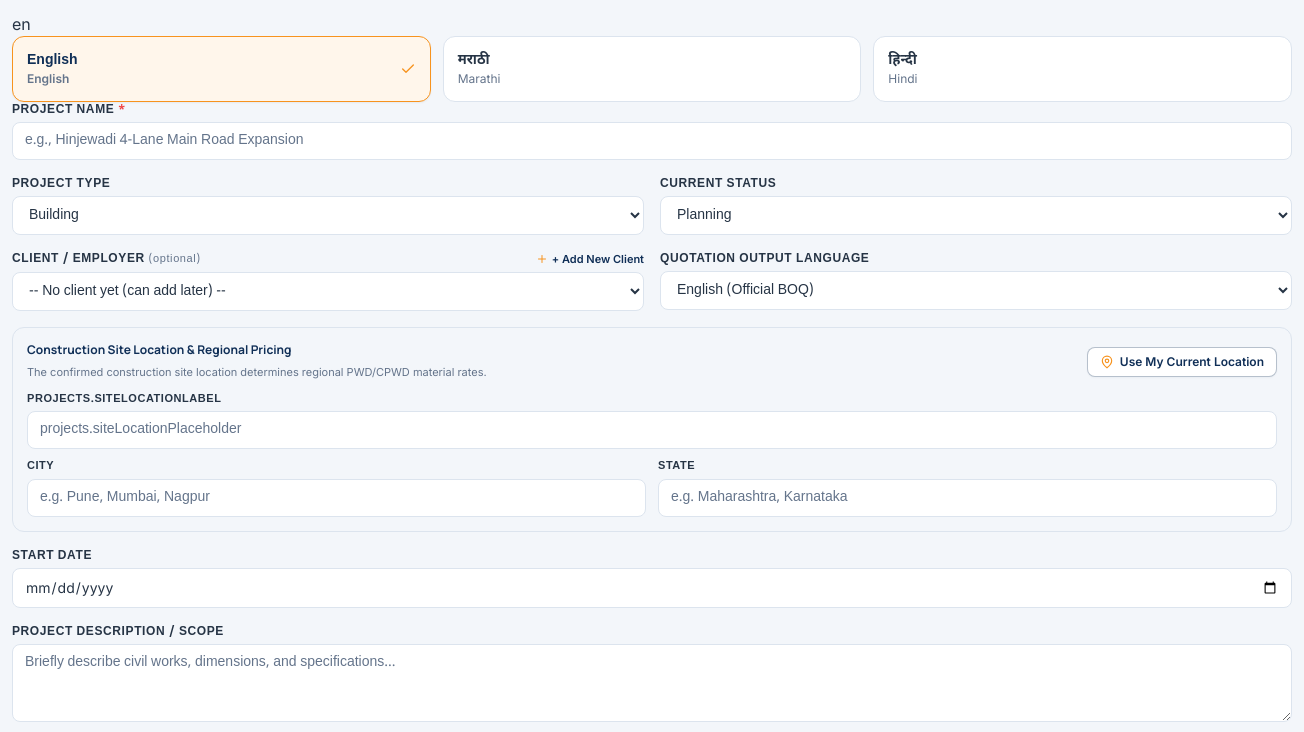
Test: Language Switch & Form Data Preservation Tests › should preserve user-entered form data when switching interface languages
Expected: the text with test id "current-locale" reads "en", [12, 14, 31, 34]
Expected: the text "Project Name *" is shown, [12, 102, 126, 118]
In the field named "name": (652, 141) [12, 122, 1292, 160], type "हिंजवडी वाकड मुख्य रस्ता"
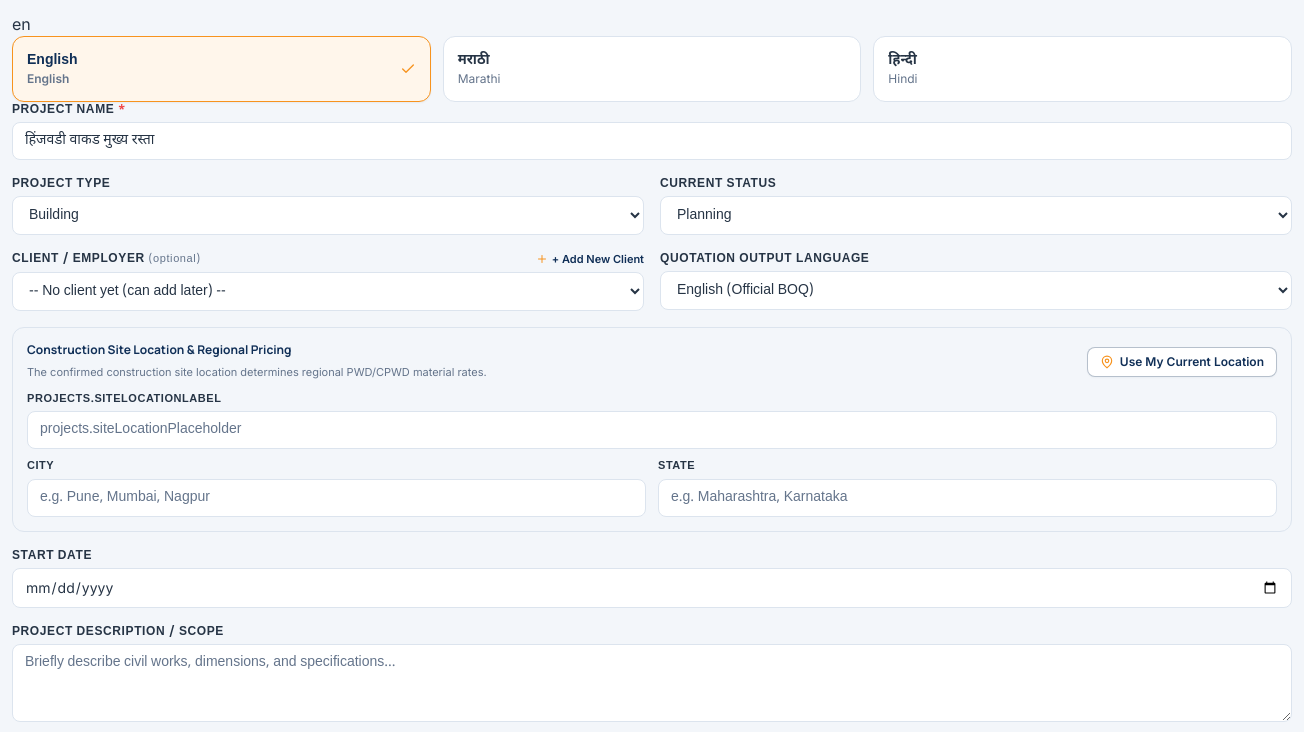
Note: Switch language to Marathi ('mr')
Click the text "मराठी": (474, 60) [458, 51, 490, 70]
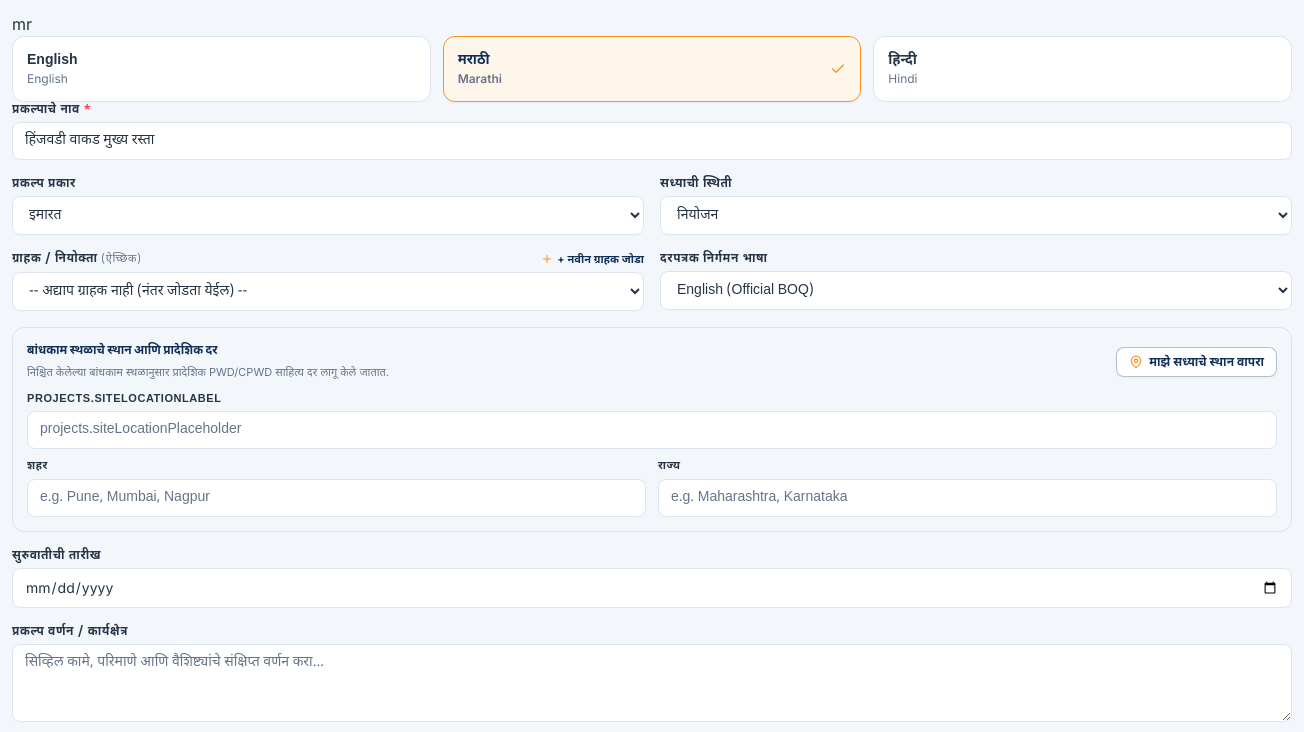
Now the text with test id "current-locale" reads "mr", box [12, 14, 32, 34]
Now the text "प्रकल्पाचे नाव *" is shown, box [12, 102, 92, 118]
Note: Switch language to Hindi ('hi')
Click the text "हिन्दी": (903, 61) [888, 51, 918, 71]
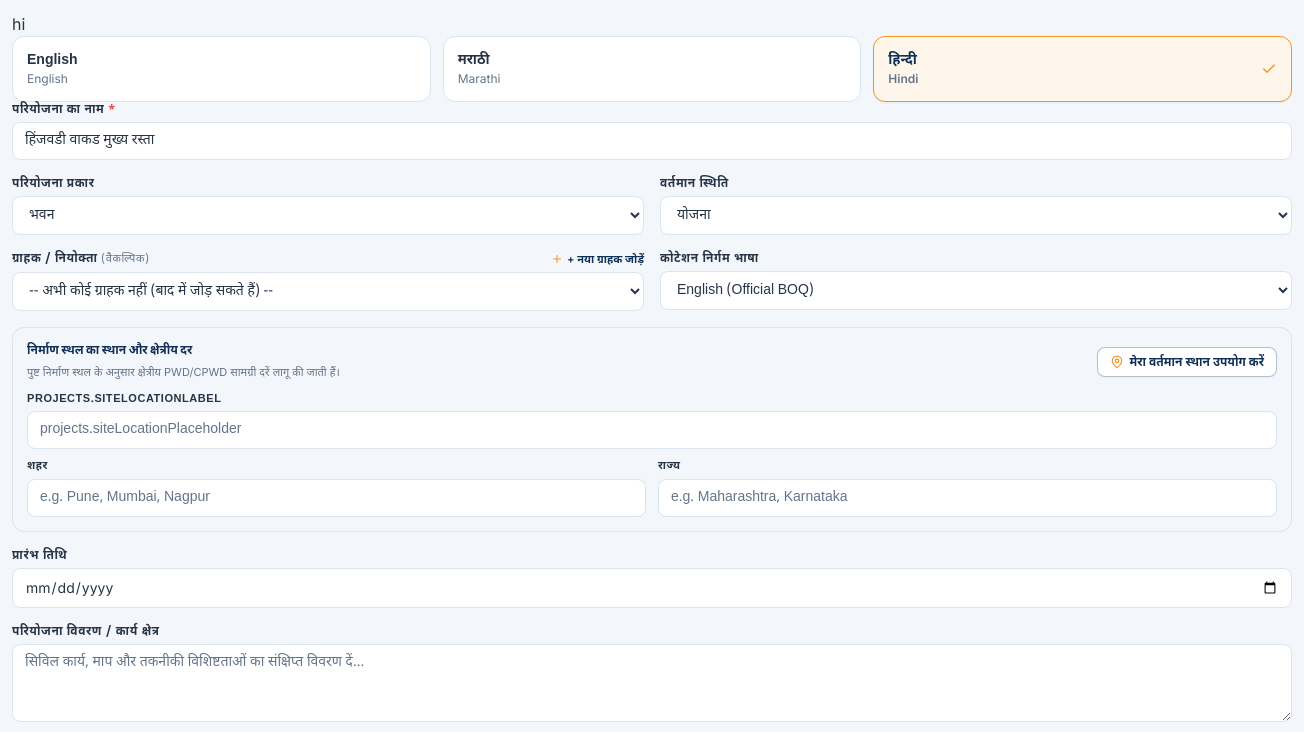
Now the text with test id "current-locale" reads "hi", box [12, 14, 25, 34]
Now the text "परियोजना का नाम *" is shown, box [12, 102, 116, 118]
